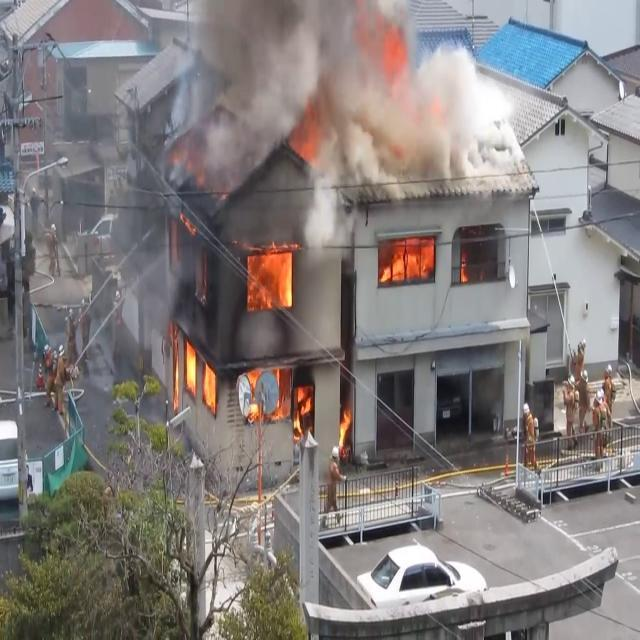Fire: (246, 236, 298, 314), (380, 226, 436, 288), (292, 380, 314, 438), (336, 399, 354, 462)
Smoke: (160, 1, 524, 209)
